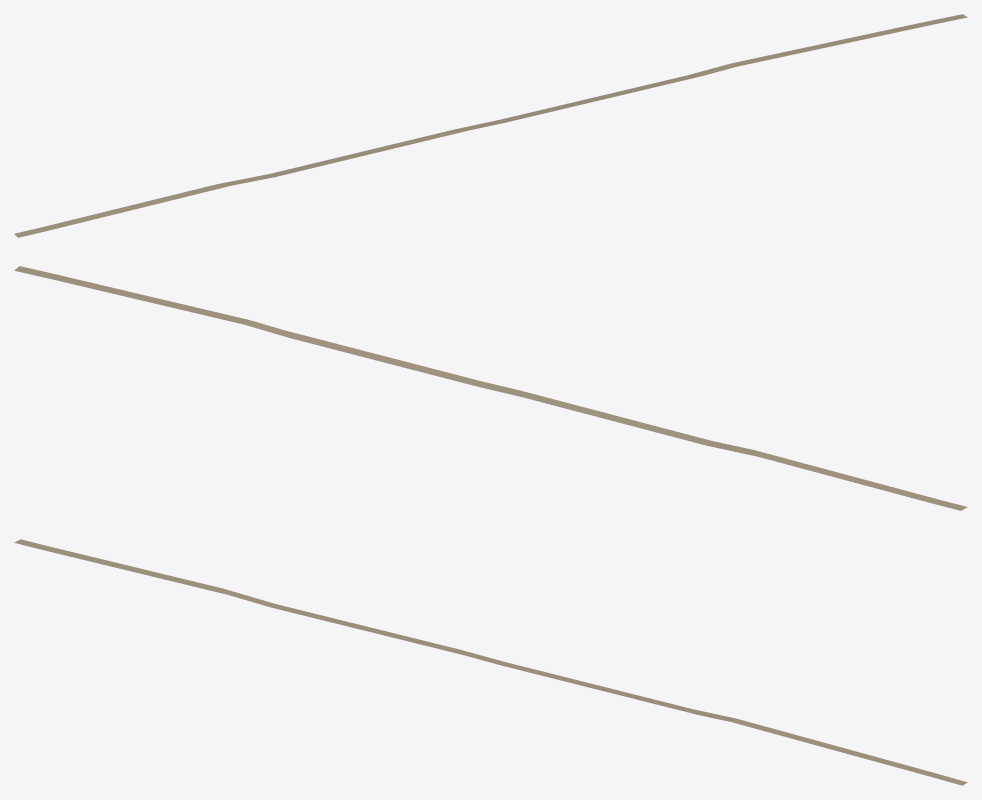
Rendered from farm_12_10_track.glb.
3 views of the same model, one above another, from view 1: azimuth 30°, elevation 25°; view 2: azimuth 150°, elevation 25°; view 3: azimuth 330°, elevation 25° (orthographic). The views are drawn at different scales.
Visible parts, largest first — view 1: geometry_0; view 2: geometry_0; view 3: geometry_0.
Part boxes in pixels (x1,y1,x2,y2): geometry_0: [14, 14, 967, 237]; geometry_0: [14, 266, 967, 510]; geometry_0: [14, 539, 967, 785].
Bounding box in the file's own units: 329 × 1.76 × 9.74.
